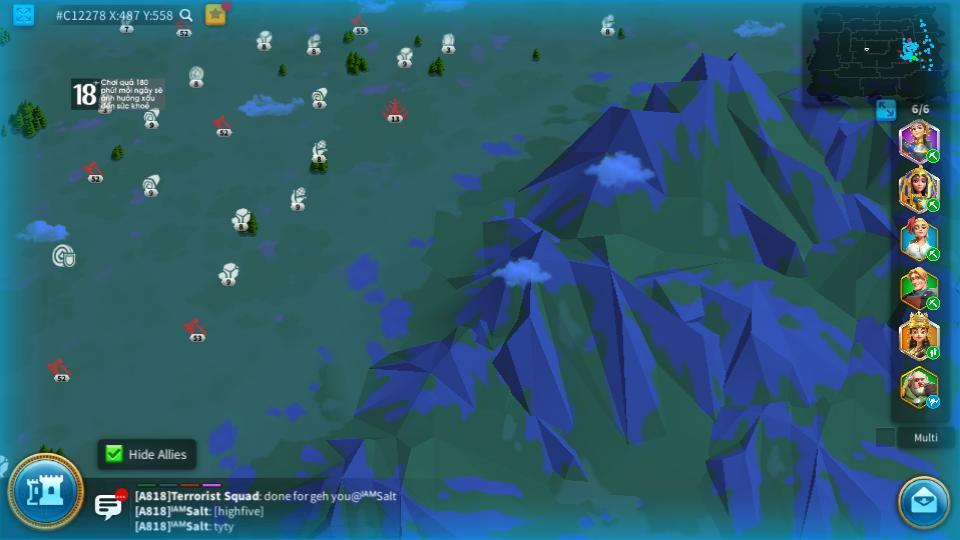gem-z-out: (185, 65, 207, 86)
march_idle: (925, 396, 942, 408)
march_marching: (925, 197, 941, 212), (923, 148, 940, 161), (924, 248, 942, 260), (926, 297, 941, 310), (925, 347, 941, 359)
